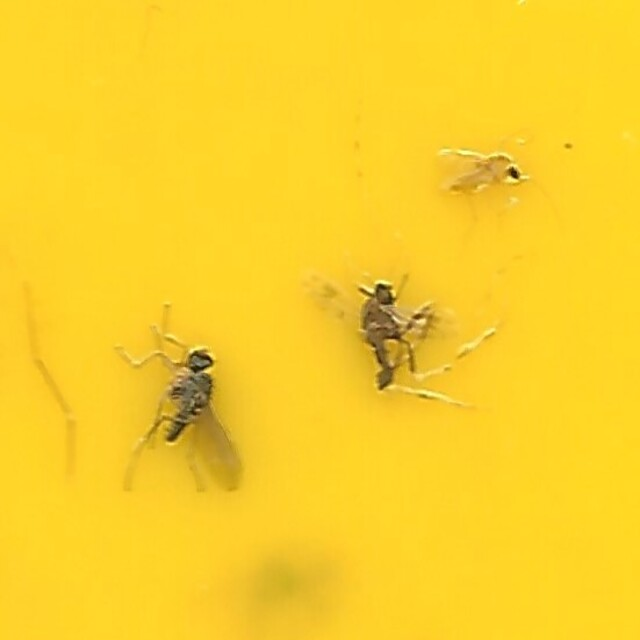Brachycera: (116, 319, 240, 499)
Nematocera: (350, 274, 489, 404), (431, 141, 524, 204)
